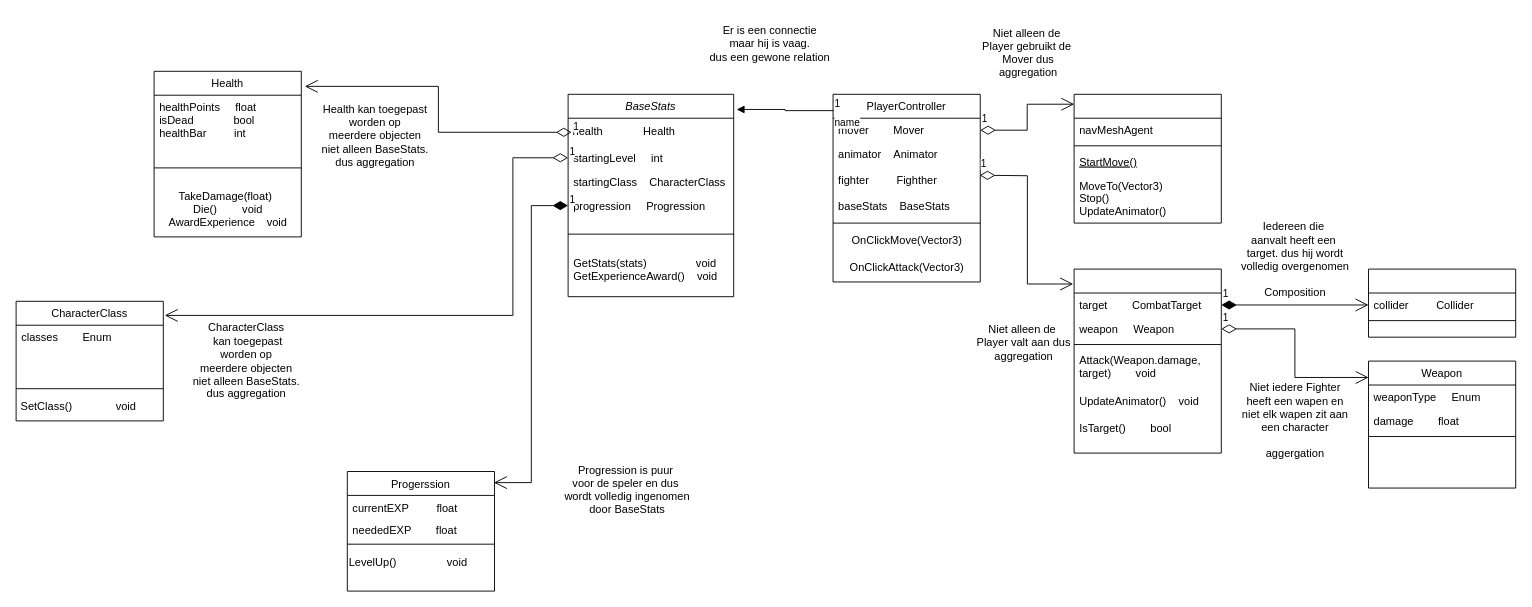
Image size: 1532x607. Some labels were removed from this diagram. The shapes that lost their labels are listed below. From the top down, each one's box as (x1, y1, x2, y2) in pixels, then its label:
(1073, 93, 1221, 223): Mover
(1368, 268, 1516, 337): CombatTarget
(1073, 268, 1221, 453): Fighter
